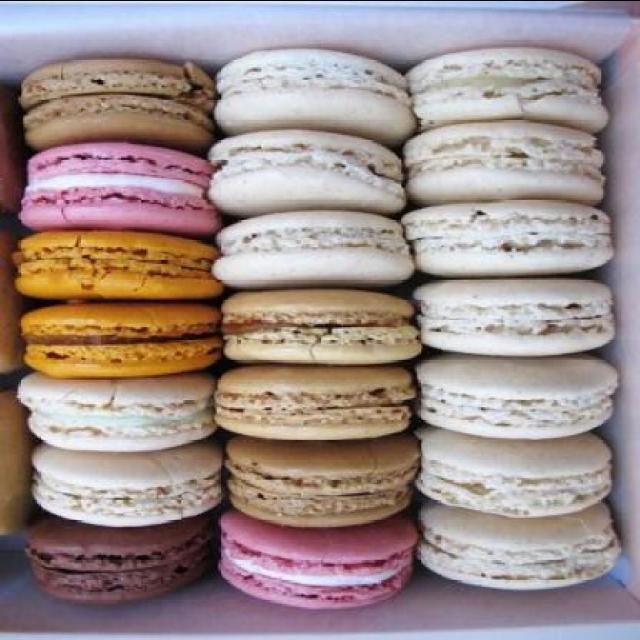Macaron: (12, 32, 620, 610)
